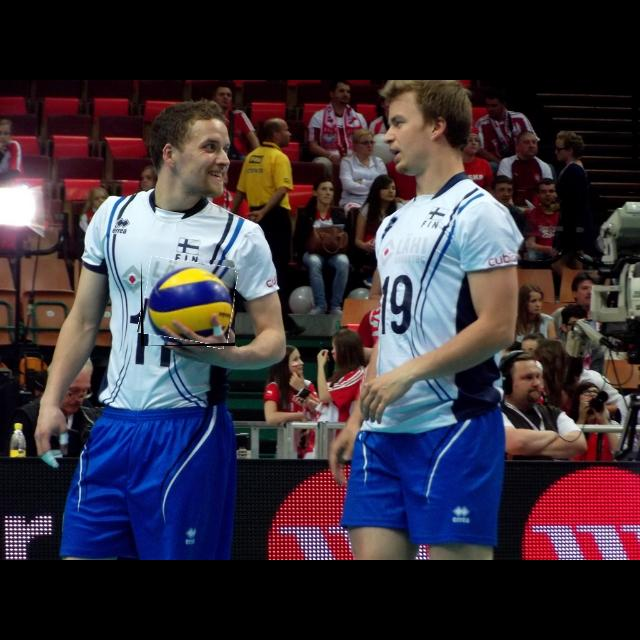Football: (141, 260, 235, 346)
